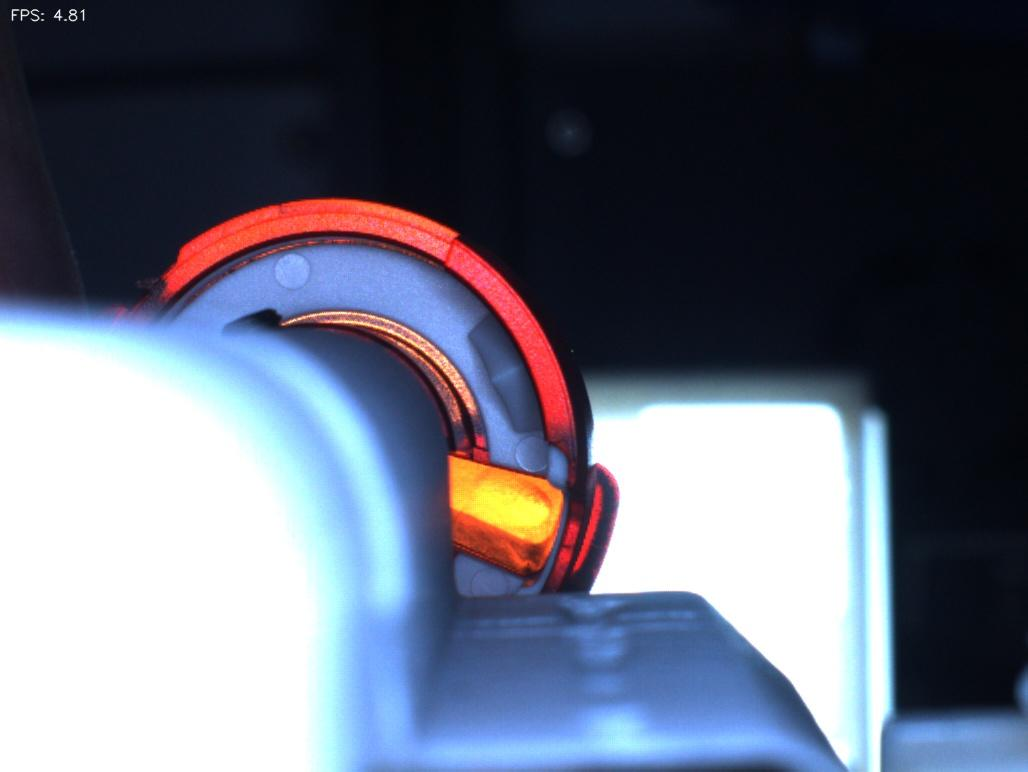Retassure: (456, 464, 561, 546)
